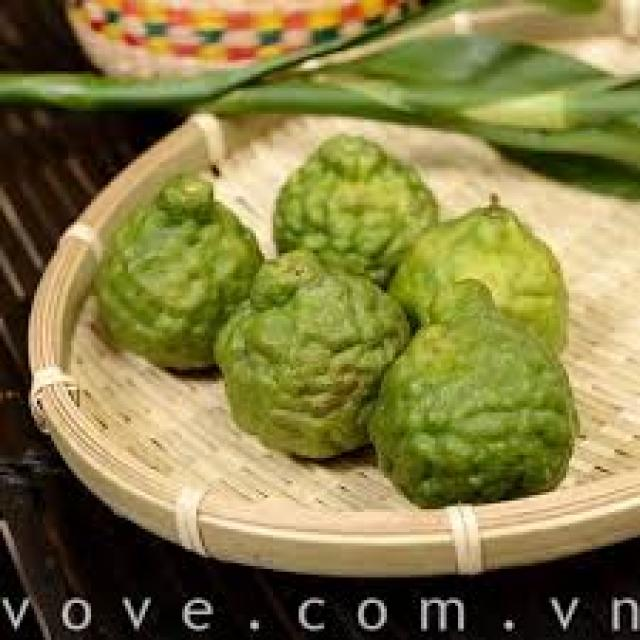Chuc: (210, 247, 410, 461), (364, 310, 578, 506), (91, 170, 262, 370), (387, 190, 569, 358), (270, 130, 438, 282)
